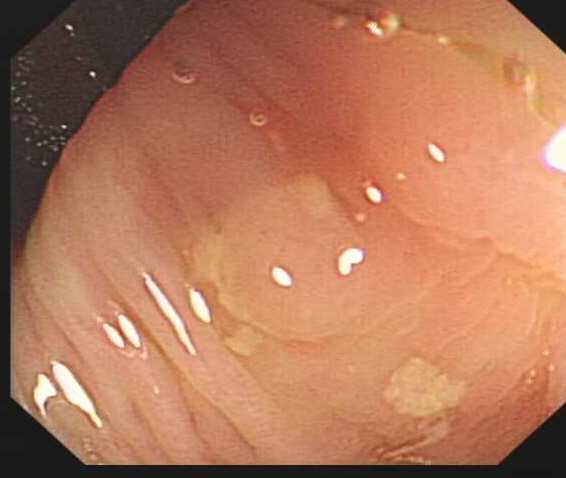others: (208, 172, 373, 342)
